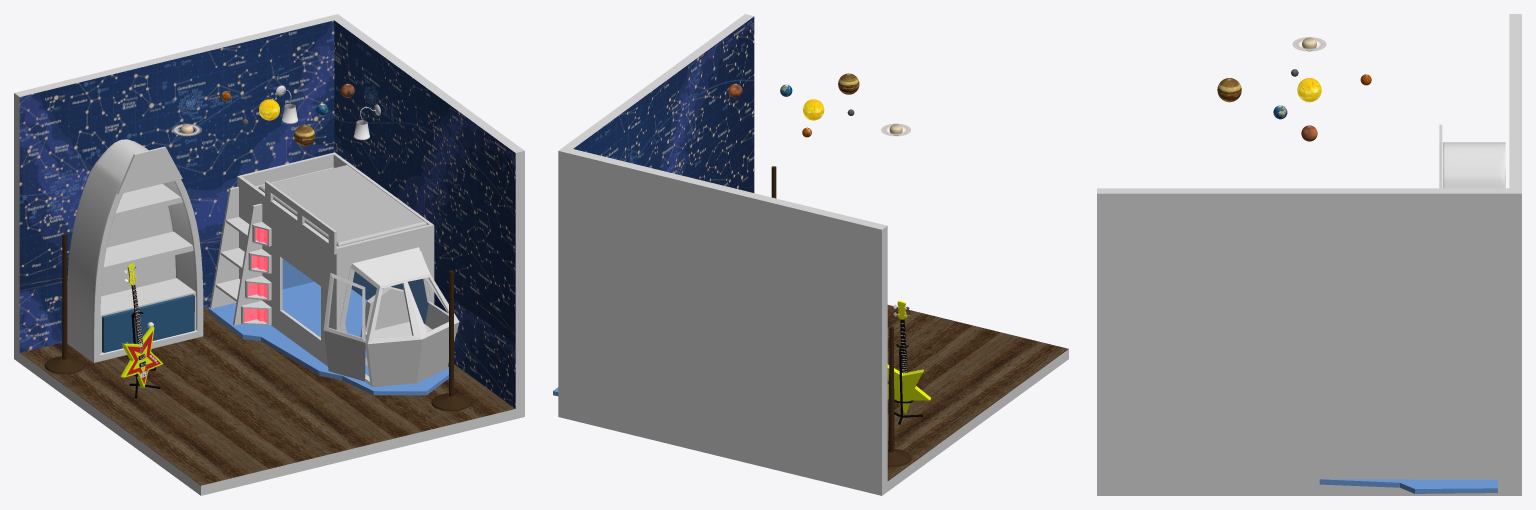
3 renders of one model, left to right at view 1: azimuth 30°, elevation 25°; view 2: azimuth 150°, elevation 25°; view 3: azimuth 270°, elevation 25°, orthographic. The views are drawn at different scales.
Visible parts, largest first — view 1: Wall Left, Floor, Wall Right, Cube.002, Walls Back, Plane.036, Cube, Plane, Plane.035, Cube.001, Cube.004, Cube.066 (+11 smaller); view 2: Walls Back, Wall Right, Floor, Lamp.001, A Body 02.002; view 3: Walls Back, Cube.002, Plane.035, Jupiter, Sun.
Part boxes in pixels (x1,y1,x2,y2): Wall Left: [19, 20, 334, 352]; Floor: [20, 306, 514, 485]; Wall Right: [334, 20, 515, 408]; Cube.002: [67, 139, 203, 362]; Walls Back: [14, 14, 524, 495]; Plane.036: [237, 152, 434, 366]; Cube: [340, 247, 459, 386]; Plane: [258, 165, 427, 246]; Plane.035: [208, 281, 448, 395]; Cube.001: [102, 294, 194, 352]; Cube.004: [323, 273, 365, 381]; Cube.066: [103, 231, 193, 272]; Walls Back: [558, 14, 1068, 495]; Wall Right: [573, 16, 754, 192]; Floor: [887, 305, 1068, 480]; Lamp.001: [887, 326, 911, 467]; A Body 02.002: [887, 364, 930, 414]; Walls Back: [1097, 14, 1521, 495]; Cube.002: [1443, 142, 1505, 188]; Plane.035: [1319, 479, 1497, 493]; Jupiter: [1217, 78, 1241, 102]; Sun: [1297, 78, 1321, 102].
Size of the model in its own units: 10.53 by 8.5 by 10.
